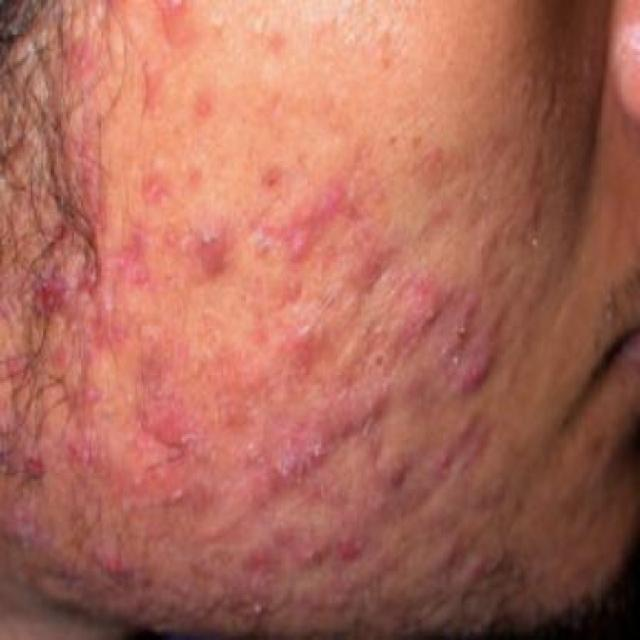papules: (392, 271, 468, 357), (323, 381, 400, 453), (351, 228, 411, 300), (358, 442, 438, 493), (278, 300, 334, 371), (188, 208, 230, 281), (337, 504, 381, 560), (280, 228, 325, 273), (294, 532, 332, 583)
